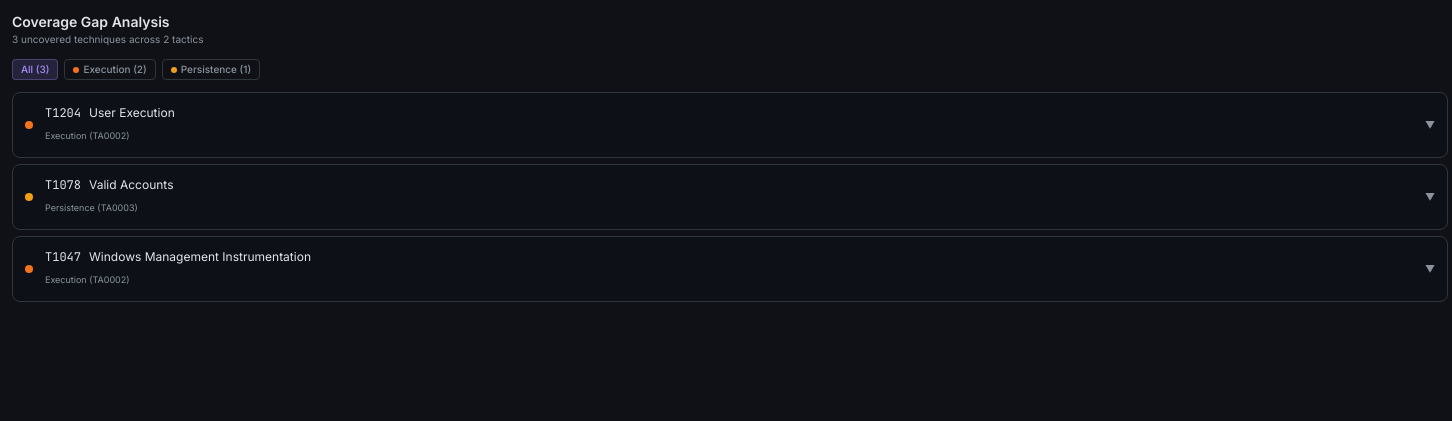
CoverageGapAnalysis › expands gap card to show recommendation on click
The width and height of the screenshot is (1452, 421).
Expected: the text "Recommendation" is not shown
// Click the first gap card to expand - use the button containing T1204
Click the button "T1204" at [63, 113], box [13,93,1447,157]
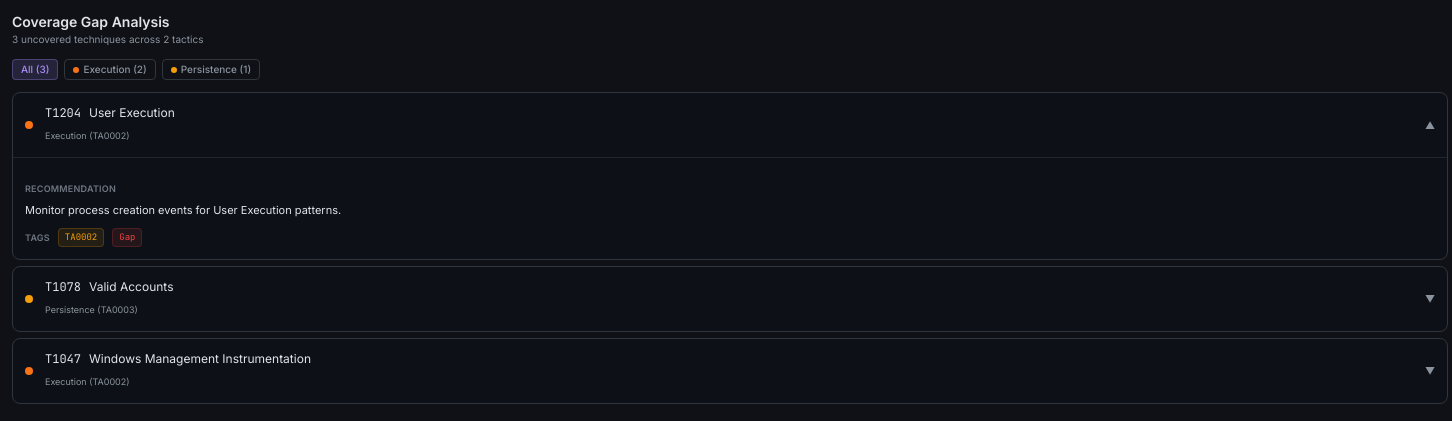
Now the text "Recommendation" is shown, box [25,183,116,194]
